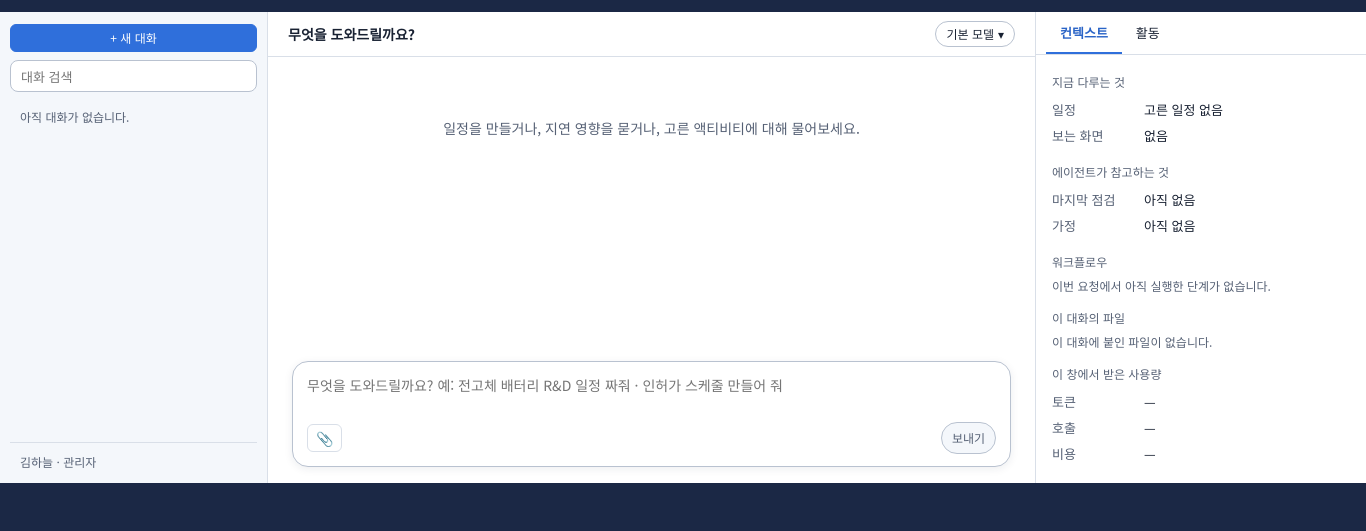
Test: R2 · every card kind the backend sends › a result that did not meet the conditions says why
Type "q" into the text box named "에이전트에게 요청" at (652, 398), box [307, 374, 996, 422]
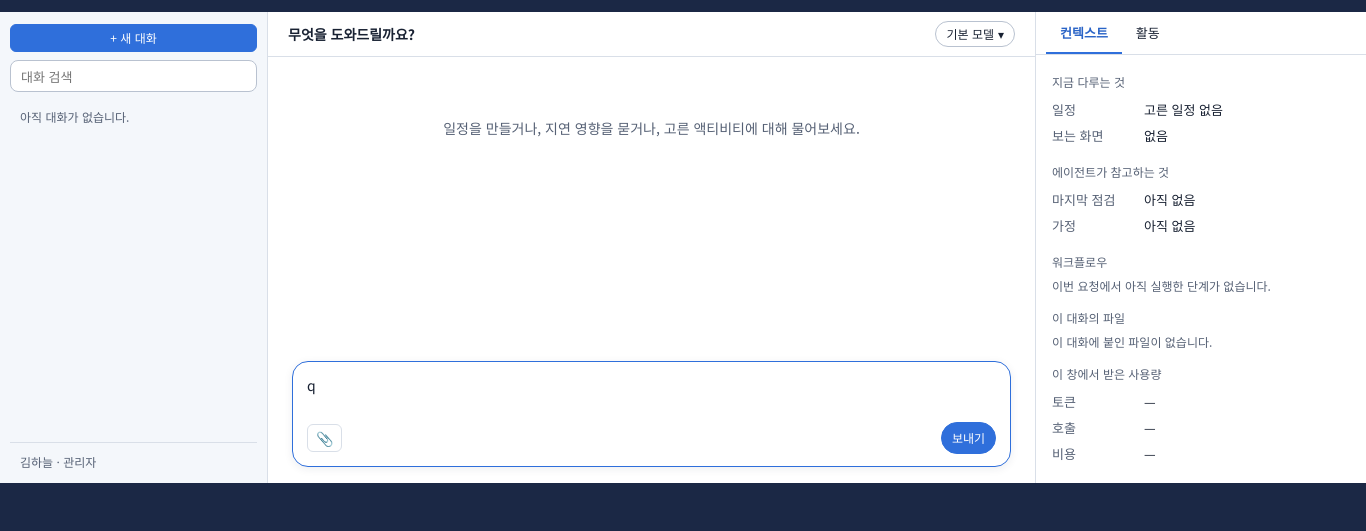
Click the button "보내기" at (968, 438), box [941, 422, 996, 454]
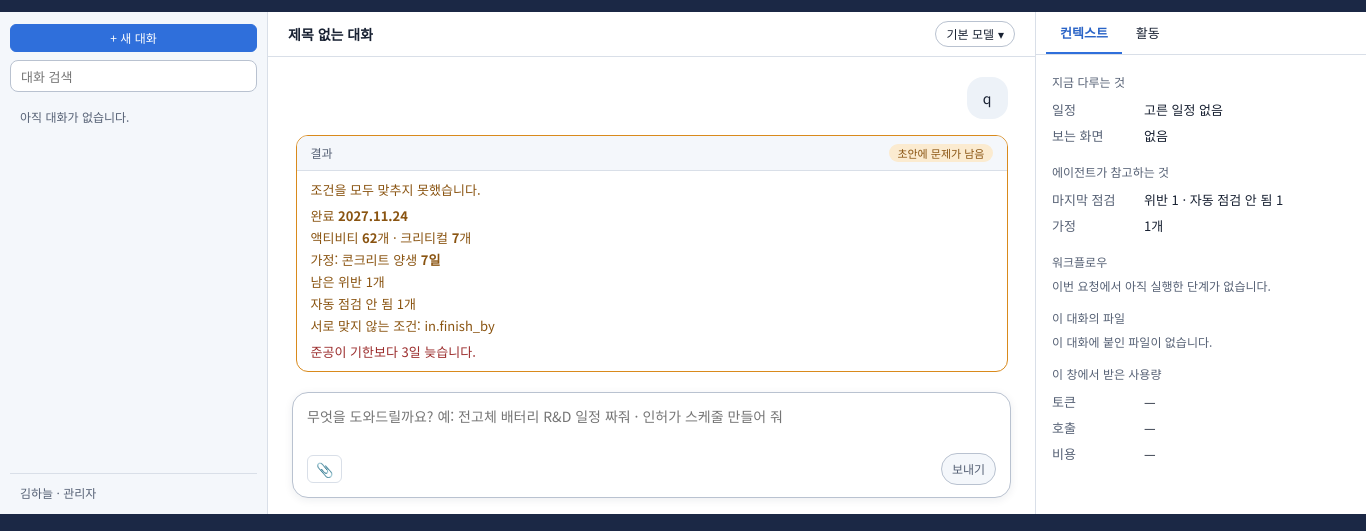
Now the element "결과" shows "조건을 모두 맞추지 못했습니다.", box [310, 180, 480, 199]
Now the element "결과" shows "준공이 기한보다 3일 늦습니다.", box [310, 342, 476, 361]
